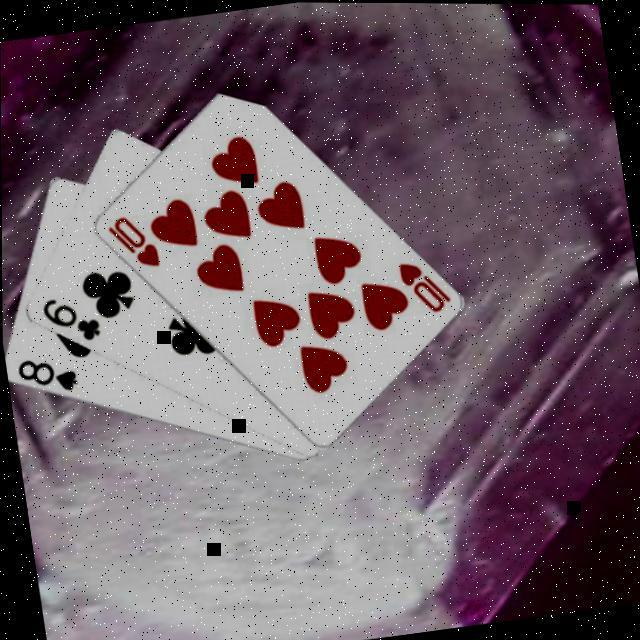10H: (392, 252, 453, 319), (101, 208, 161, 274)
6C: (36, 289, 103, 349)
8S: (11, 350, 80, 400)
